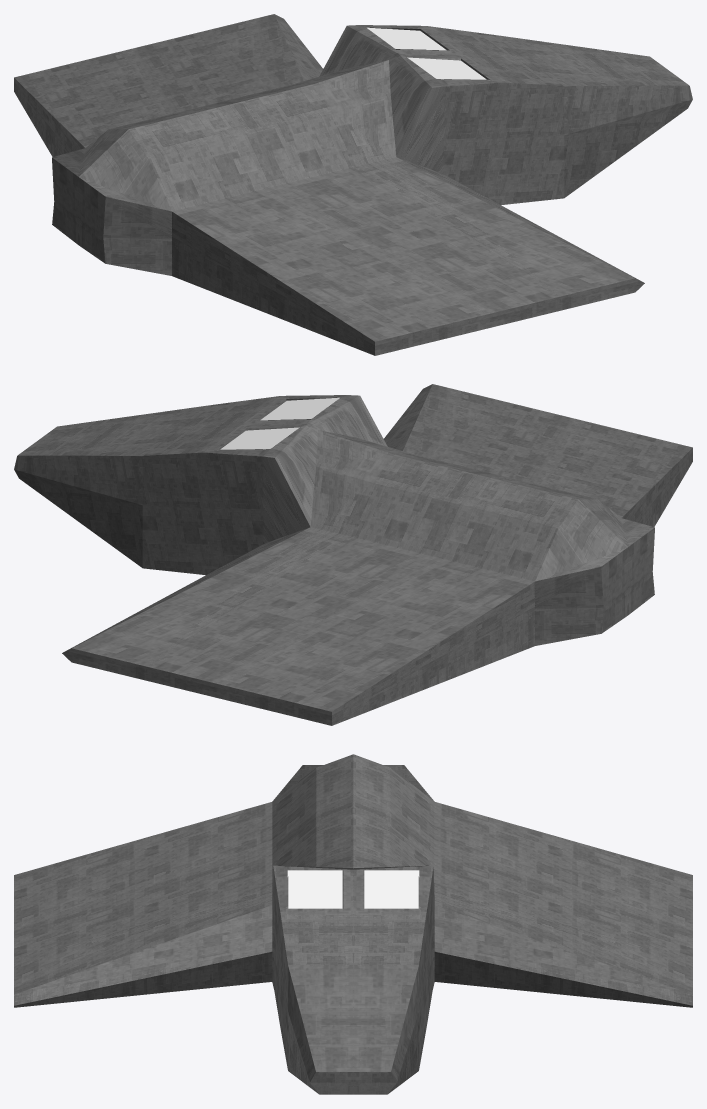
The model's file is vaisseau01.gltf.
3 renders of one model, top to bottom at view 1: azimuth 30°, elevation 25°; view 2: azimuth 150°, elevation 25°; view 3: azimuth 270°, elevation 25°, orthographic. The views are drawn at different scales.
Visible parts, largest first — view 1: Cube; view 2: Cube; view 3: Cube.
Part boxes in pixels (box(x1,y1,x2,y2)): Cube: box(14, 14, 692, 355); Cube: box(14, 384, 692, 725); Cube: box(14, 754, 692, 1094).
Size of the model in its own units: 7.9 by 1.93 by 8.35.
2 materials, 1 textured.
